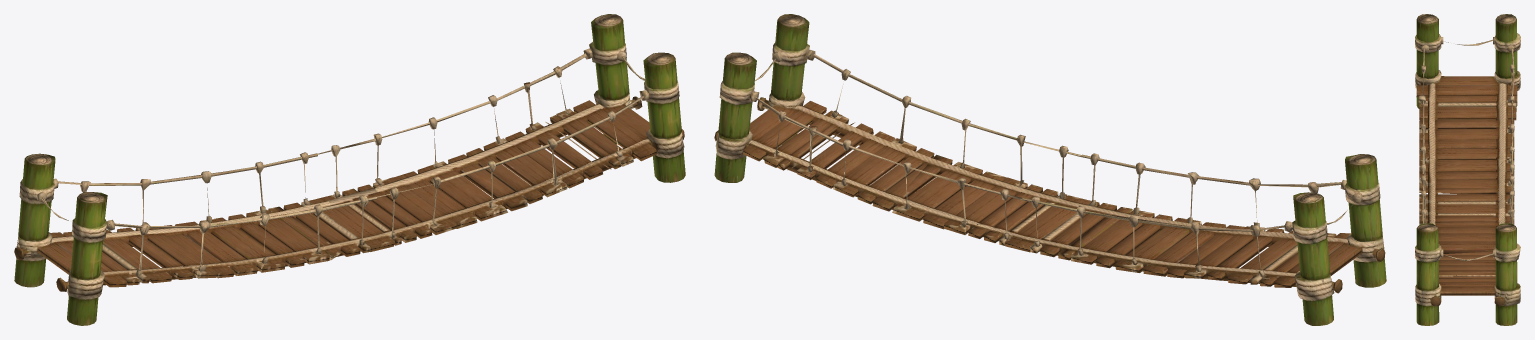
File: RopeBridge.fbx
The picture shows the model from 3 angles, left to right: view 1: azimuth 30°, elevation 25°; view 2: azimuth 150°, elevation 25°; view 3: azimuth 270°, elevation 25°; orthographic projection. The views are drawn at different scales.
Parts seen in each view (by area): view 1: RopeBridge; view 2: RopeBridge; view 3: RopeBridge.
Part boxes in pixels (x1=…): RopeBridge: x1=14, y1=14, x2=685, y2=325; RopeBridge: x1=714, y1=14, x2=1386, y2=325; RopeBridge: x1=1415, y1=14, x2=1520, y2=325.
Size of the model in its own units: 7.2 by 1.35 by 1.41.
1 material, 1 textured.
